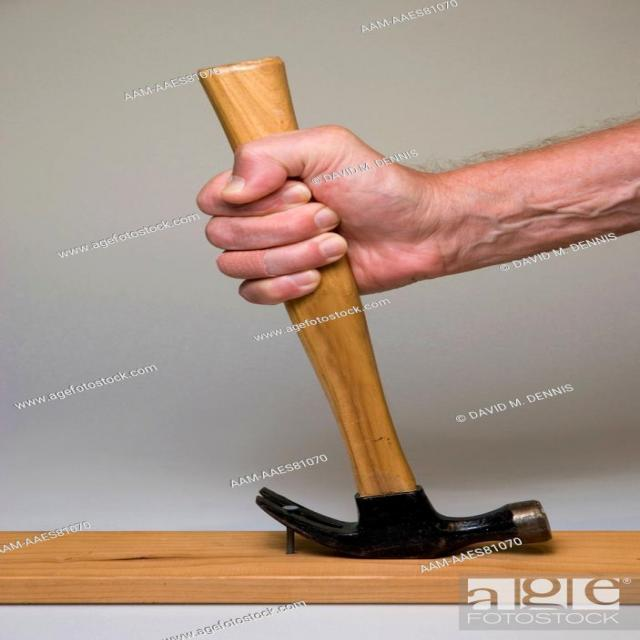hammer: (183, 59, 562, 569)
